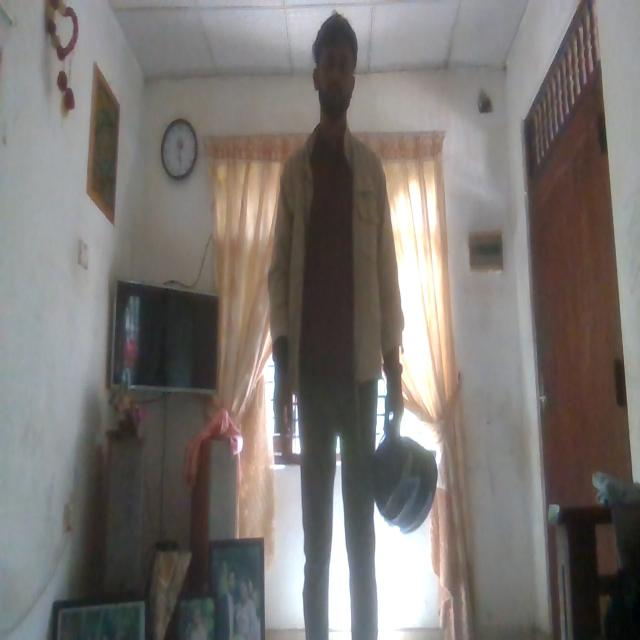Jacket_Wearer: (266, 127, 406, 398)
Person: (264, 16, 406, 639)
